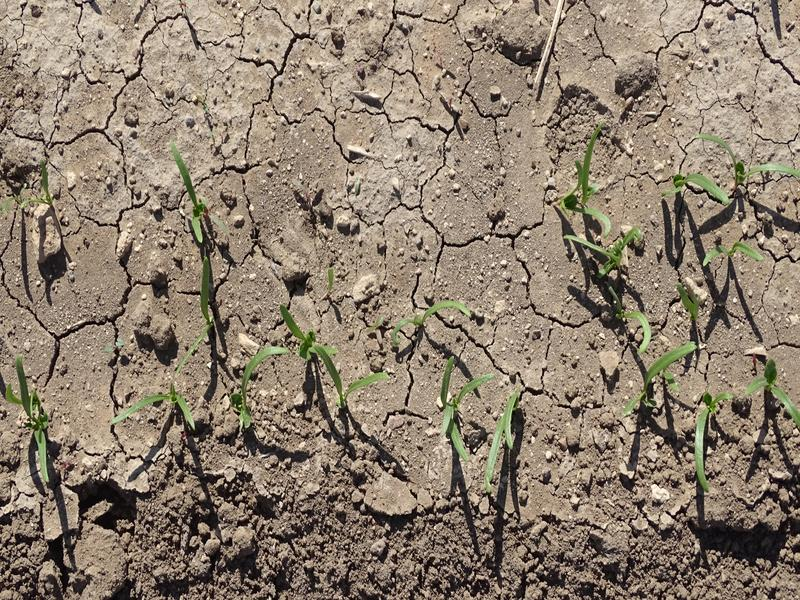Espinaca: (558, 139, 645, 276), (695, 387, 797, 499), (283, 310, 387, 408), (662, 131, 795, 200), (620, 311, 695, 414), (14, 356, 54, 489), (173, 254, 212, 377), (235, 344, 290, 427), (433, 356, 488, 437), (173, 146, 216, 244), (107, 387, 198, 432), (482, 392, 523, 480), (395, 298, 474, 338), (705, 241, 760, 266)
